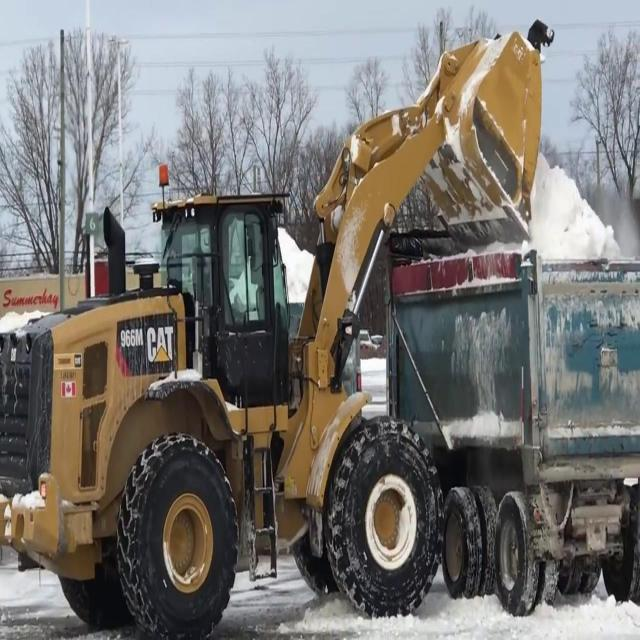Dump Truck: (381, 228, 639, 618)
Loader: (0, 13, 562, 639)
